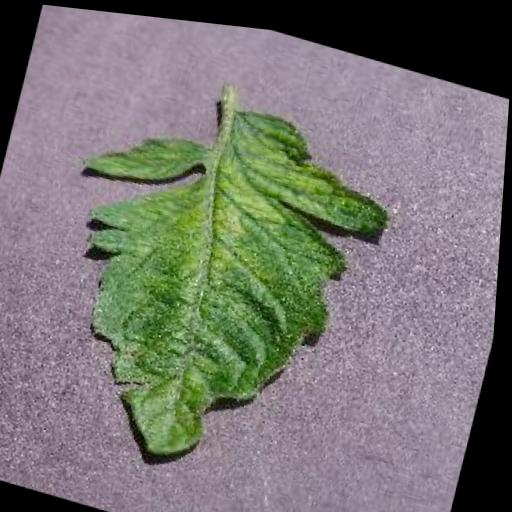Mosaic Virus: (17, 58, 412, 506)
